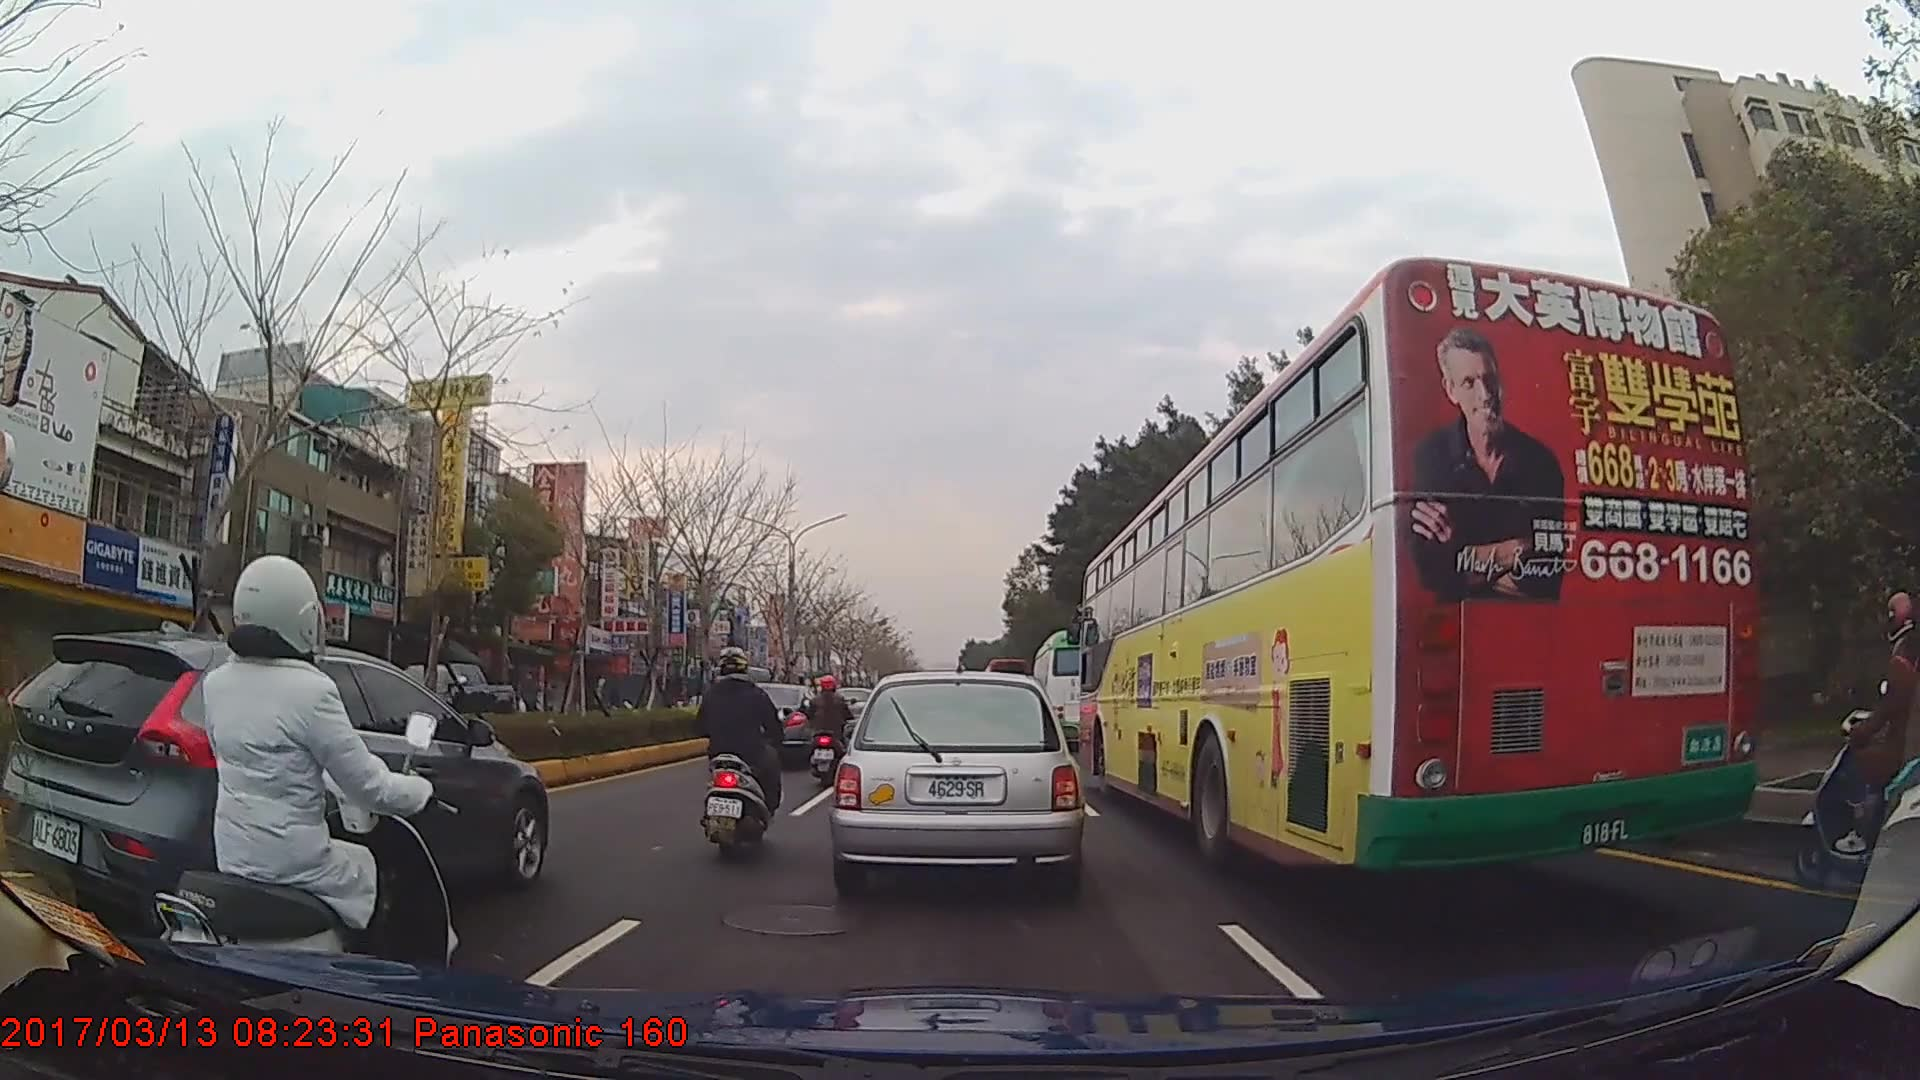rider: (156, 552, 466, 1023), (1792, 594, 1920, 885), (693, 647, 786, 861), (804, 676, 854, 789)
vehicle: (1081, 254, 1757, 876), (0, 625, 550, 927), (830, 670, 1082, 891), (382, 661, 516, 739), (1030, 629, 1116, 749), (728, 683, 839, 768)
